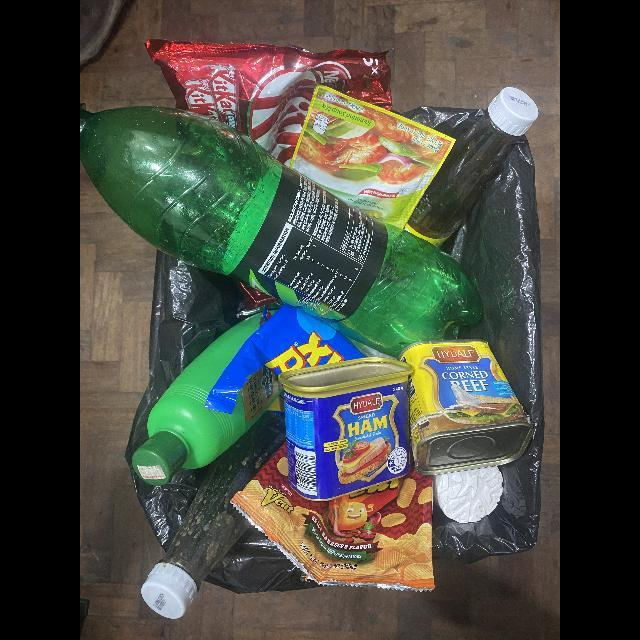glass: (140, 410, 286, 620), (404, 87, 539, 248)
metal: (278, 357, 412, 502), (397, 340, 533, 476)
plastic: (80, 106, 484, 359), (131, 313, 282, 487), (433, 466, 503, 524)
wrapper: (145, 39, 393, 168), (230, 445, 435, 591), (290, 85, 456, 229), (205, 303, 367, 415)
